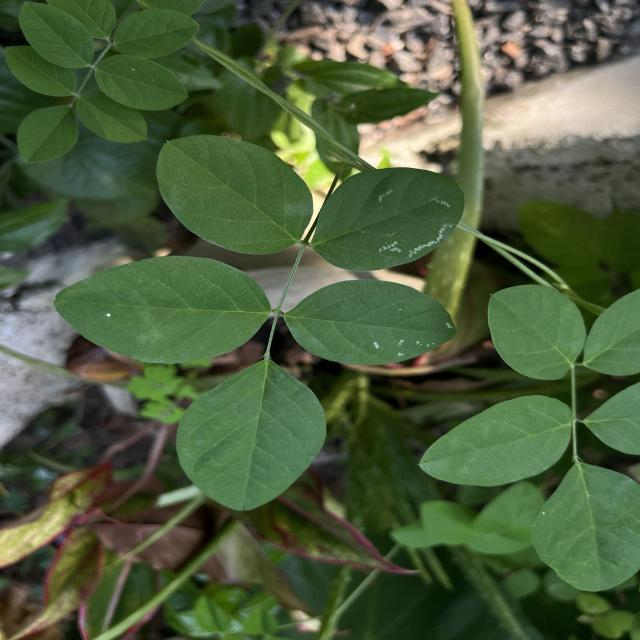Clitoria ternatea: (53, 254, 273, 364), (175, 361, 328, 512), (154, 132, 314, 255), (310, 165, 466, 272), (283, 278, 457, 367)
